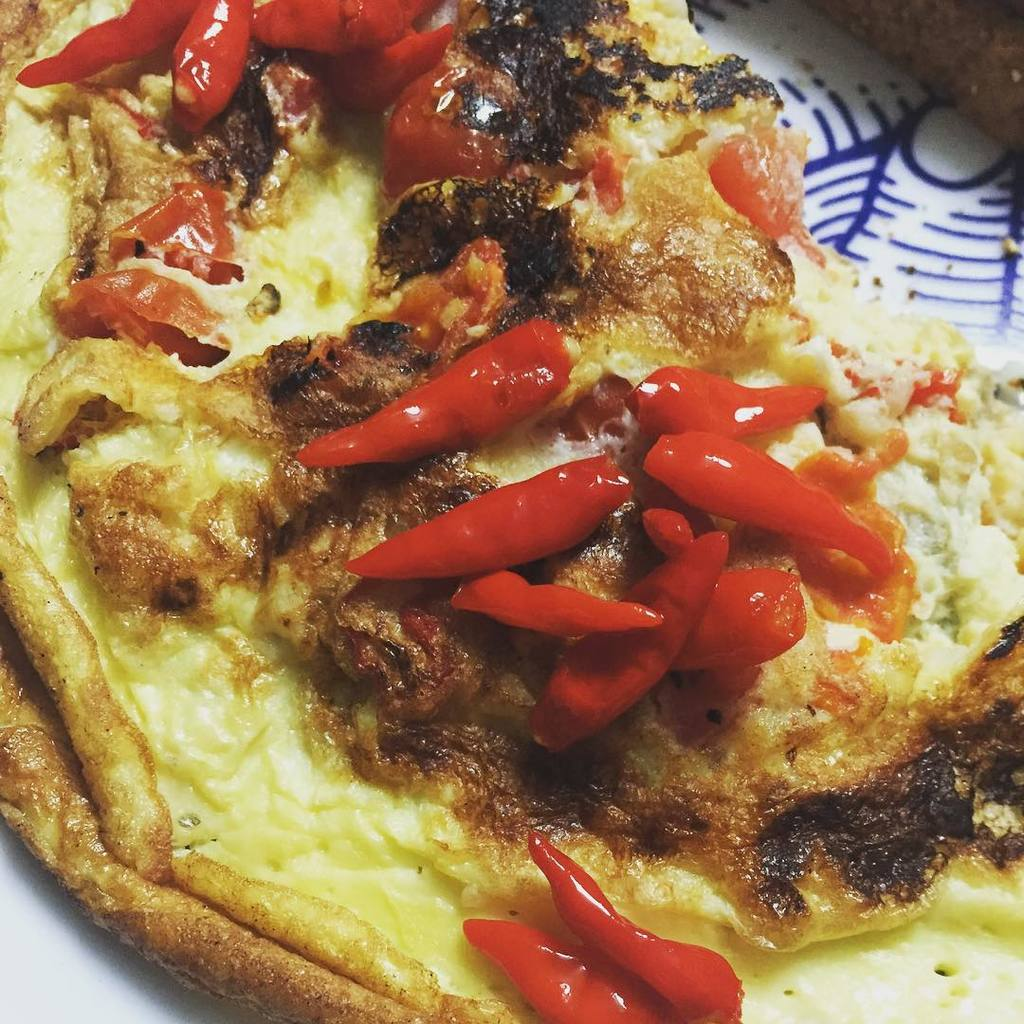Pizza: (0, 0, 1013, 1024)
